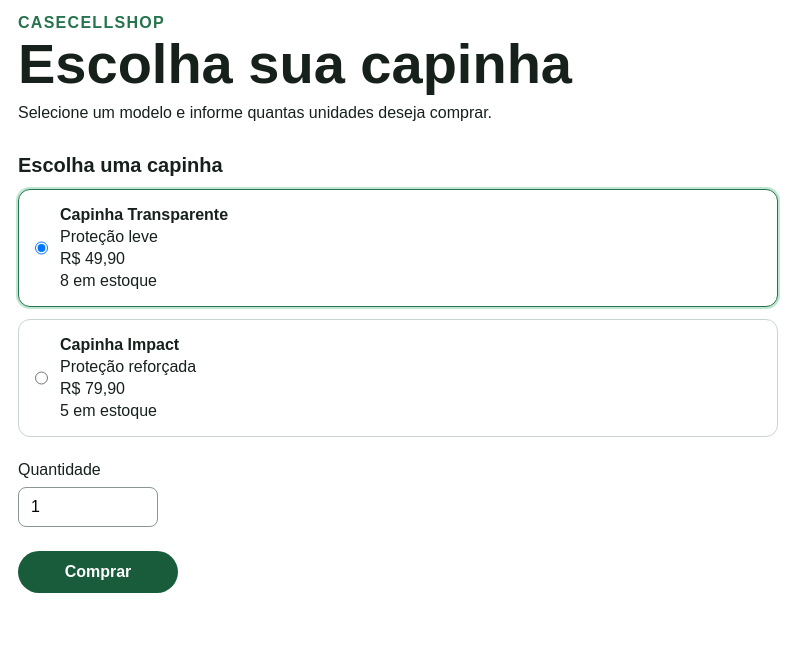
Scenario: CheckoutPage › submits exactly the selected product, quantity, and a UUID key
Click the radio button labelled "Capinha Impact Proteção reforçada R$ 79,90 5 em estoque" at [42, 378], box top-left (35, 336), bottom-right (48, 420)
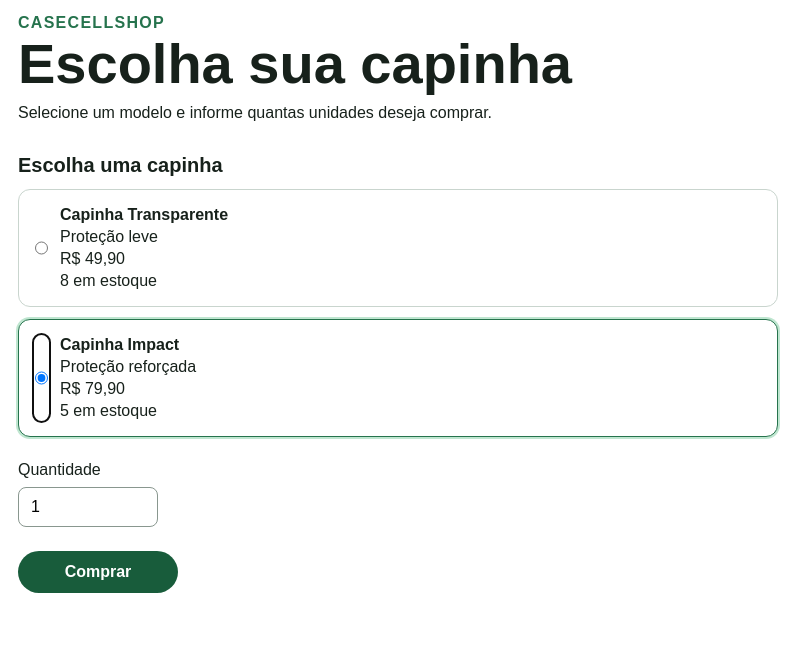
Replace the text in the number field labelled "Quantidade" with "2" at [88, 507], box top-left (18, 487), bottom-right (158, 527)
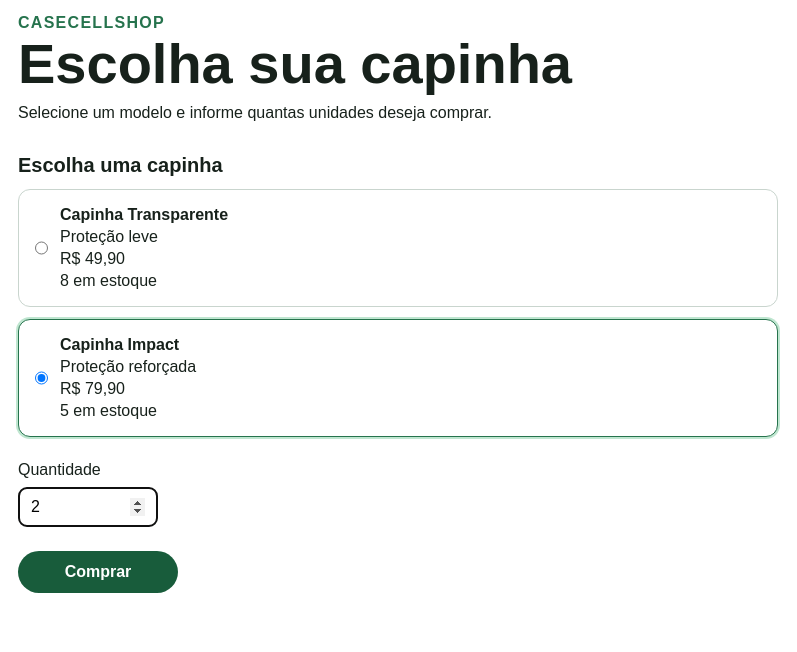
Click the button "Comprar" at [98, 572], box top-left (18, 551), bottom-right (178, 593)
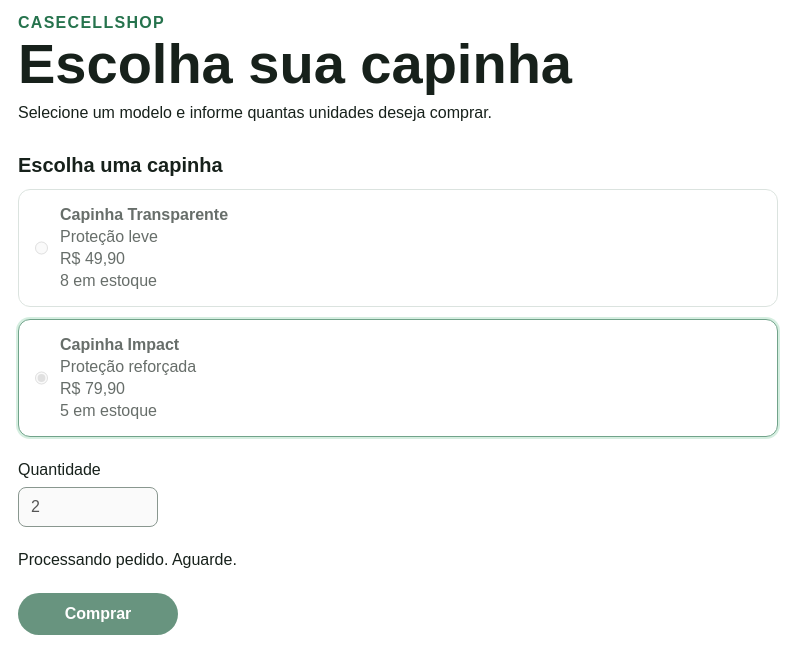
Expected: the button "Comprar" is disabled, top-left (18, 593), bottom-right (178, 635)
Expected: the message shows "Processando pedido", top-left (18, 551), bottom-right (237, 568)
